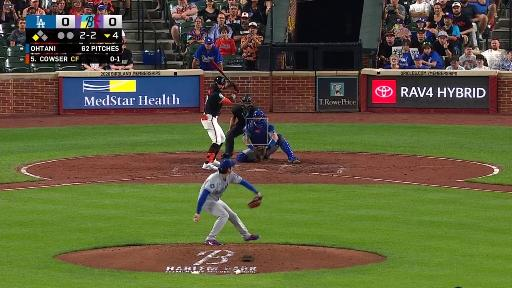pitcher: (192, 158, 267, 248)
